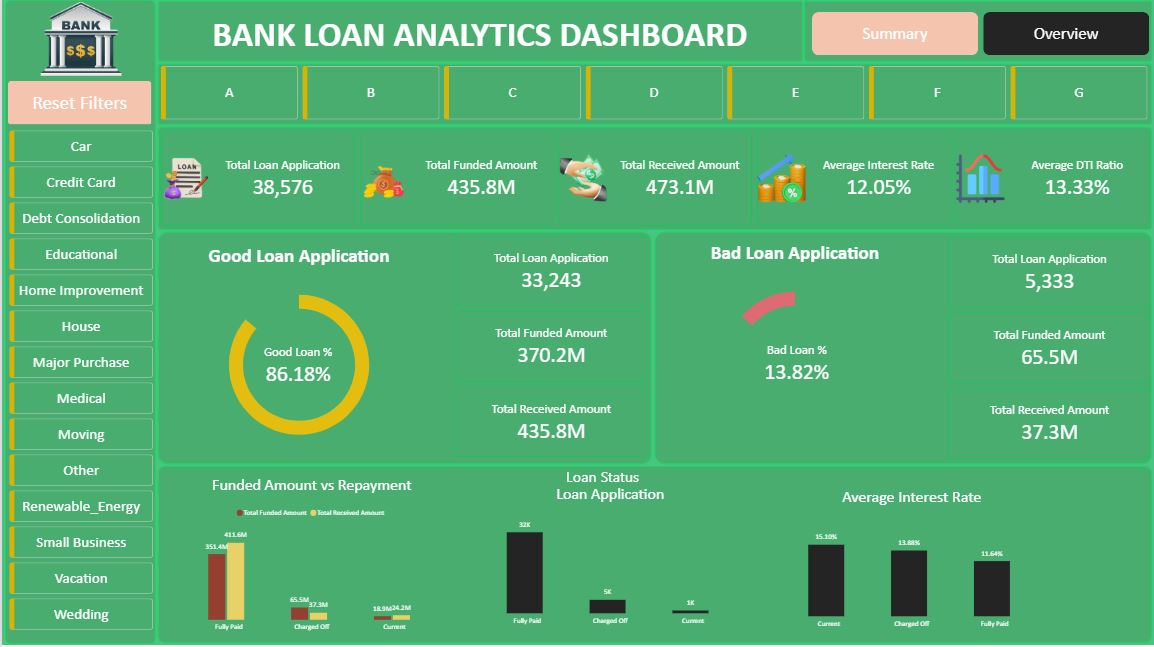

The dashboard page shown, as its layout file describes it:
{"tool":"powerbi","page":{"name":"Summary","canvas":[1920,1080],"ordinal":0},"visuals":[{"type":"cardVisual","fields":{"Data":["financial_loan.Total Loan Application","financial_loan.Total Funded Amount","financial_loan.Total Received Amount","financial_loan.Average Interest Rate","financial_loan.Average DTI Rate"]},"box":[264.9,218,1648.2,159.4],"z":0},{"type":"donutChart","title":"Good Loan Application","fields":{"Category":["financial_loan.Good_vs_Bad_Loan"],"Y":["financial_loan.Total Loan Application"]},"box":[269.6,391.5,450.1,377.5],"z":1000},{"type":"donutChart","title":"Bad Loan Application","fields":{"Category":["financial_loan.Good_vs_Bad_Loan"],"Y":["financial_loan.Total Loan Application"]},"box":[1099.6,386.8,443.1,377.5],"z":2000},{"type":"cardVisual","fields":{"Data":["financial_loan.Good Loan %"]},"box":[417.3,558,152.4,105.5],"z":3000},{"type":"cardVisual","fields":{"Data":["financial_loan.Bad Loan %"]},"box":[1244.9,551,159.4,112.5],"z":4000},{"type":"cardVisual","fields":{"Data":["financial_loan.Total Loan Application","financial_loan.Total Funded Amount","financial_loan.Total Received Amount"],"Rows":["financial_loan.Good_vs_Bad_Loan"]},"box":[719.8,391.5,354,372.8],"z":5000},{"type":"cardVisual","fields":{"Data":["financial_loan.Total Loan Application","financial_loan.Total Funded Amount","financial_loan.Total Received Amount"],"Rows":["financial_loan.Good_vs_Bad_Loan"]},"box":[1542.7,393.9,370.4,372.8],"z":6000},{"type":"clusteredColumnChart","title":"Funded Amount vs Repayment","fields":{"Category":["financial_loan.LOAN_STATUS"],"Y":["financial_loan.Total Funded Amount","financial_loan.Total Received Amount"]},"box":[272,778.4,487.7,295.4],"z":7000},{"type":"clusteredColumnChart","title":"Loan Application","fields":{"Category":["financial_loan.LOAN_STATUS"],"Y":["financial_loan.Total Loan Application"]},"box":[769,792.4,487.7,269.6],"z":8000},{"type":"textbox","box":[940.1,778.4,300,150],"z":9000},{"type":"clusteredColumnChart","title":"Average Interest Rate","fields":{"Category":["financial_loan.LOAN_STATUS"],"Y":["financial_loan.Average Interest Rate"]},"box":[1273.1,797.1,487.7,269.6],"z":10000},{"type":"image","box":[11.7,2.3,239.1,124.3],"z":11000},{"type":"advancedSlicerVisual","fields":{"Values":["financial_loan.PURPOSE"]},"box":[11.7,218,239.1,844],"z":12000},{"type":"advancedSlicerVisual","fields":{"Values":["financial_loan.GRADE"]},"box":[264.9,110.2,1648.2,89.1],"z":12001},{"type":"actionButton","box":[9.4,136,239.1,72.7],"z":12002},{"type":"textbox","box":[269.6,18.8,1052.7,107.8],"z":12003},{"type":"pageNavigator","box":[1350.4,18.8,562.7,72.7],"z":12004}]}

Visuals, with their boxes in screenshot pixels (x1, y1, x2, y2), scaled from the page's 1920x1080 canvas onto the 1154x647 screenshot:
cardVisual - financial_loan.Total Loan Application x financial_loan.Total Funded Amount: region(159, 131, 1150, 226)
"Good Loan Application" donutChart: region(162, 235, 433, 461)
"Bad Loan Application" donutChart: region(661, 232, 927, 458)
cardVisual - financial_loan.Good Loan %: region(251, 334, 342, 397)
cardVisual - financial_loan.Bad Loan %: region(748, 330, 844, 397)
cardVisual - financial_loan.Total Loan Application x financial_loan.Total Funded Amount: region(433, 235, 645, 458)
cardVisual - financial_loan.Total Loan Application x financial_loan.Total Funded Amount: region(927, 236, 1150, 459)
"Funded Amount vs Repayment" clusteredColumnChart: region(163, 466, 457, 643)
"Loan Application" clusteredColumnChart: region(462, 475, 755, 636)
textbox: region(565, 466, 745, 556)
"Average Interest Rate" clusteredColumnChart: region(765, 478, 1058, 639)
image: region(7, 1, 151, 76)
advancedSlicerVisual - financial_loan.PURPOSE: region(7, 131, 151, 636)
advancedSlicerVisual - financial_loan.GRADE: region(159, 66, 1150, 119)
actionButton: region(6, 81, 149, 125)
textbox: region(162, 11, 795, 76)
pageNavigator: region(812, 11, 1150, 55)
